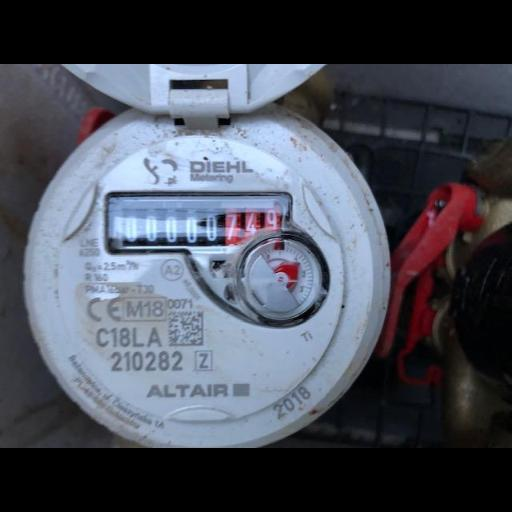0: (120, 209, 141, 247), (181, 208, 202, 246), (161, 209, 182, 246), (202, 208, 222, 246), (142, 209, 161, 246)
4: (242, 207, 262, 243)
7: (223, 207, 241, 245)
9: (262, 203, 284, 233)
border_water_meter_number: (103, 191, 291, 257)
